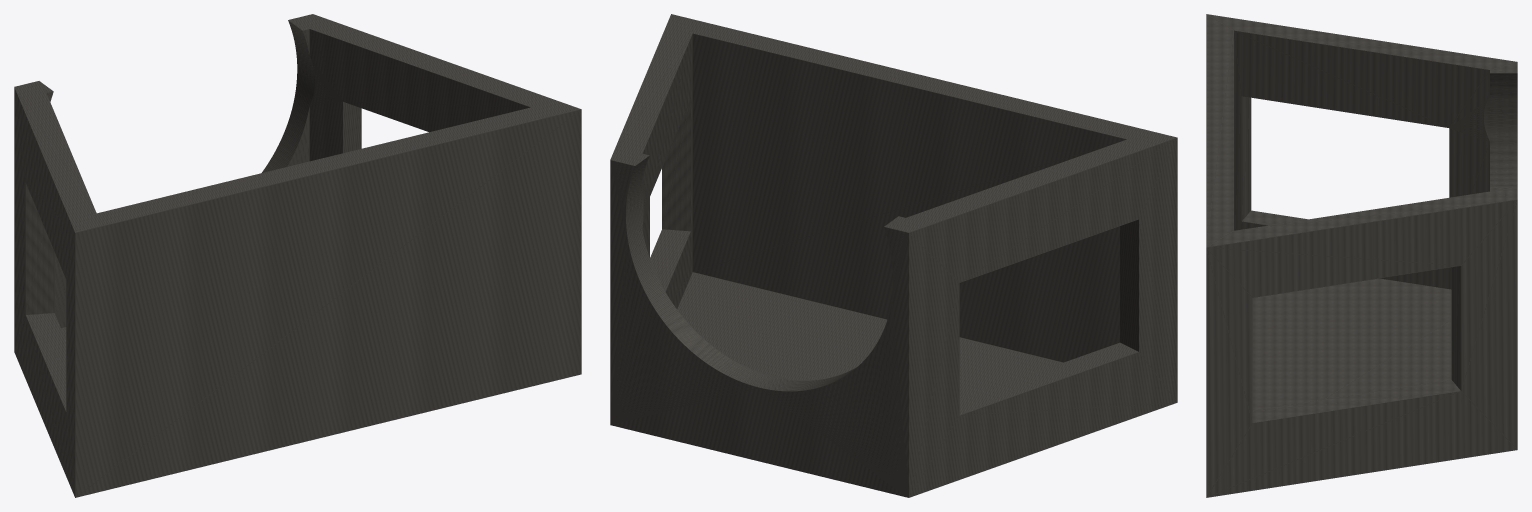
Rendered from shed1.obj.
3 renders of one model, left to right at view 1: azimuth 30°, elevation 25°; view 2: azimuth 150°, elevation 25°; view 3: azimuth 270°, elevation 25°, orthographic. The views are drawn at different scales.
Parts seen in each view (by area): view 1: Shed; view 2: Shed; view 3: Shed.
Part boxes in pixels (box(x1,y1,x2,y2)): Shed: box(14, 14, 581, 497); Shed: box(610, 14, 1177, 497); Shed: box(1206, 14, 1517, 497).
Bounding box in the file's own units: 100 × 50 × 56.38.
